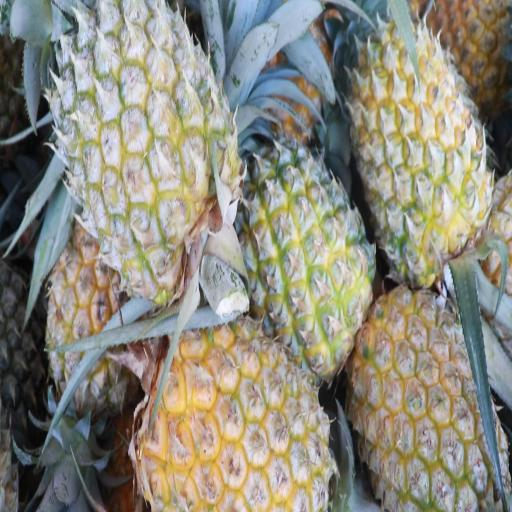------------------------------: (63, 0, 233, 274), (239, 142, 372, 371), (44, 217, 144, 411)
Pineapple - v8 v1: (146, 317, 332, 512), (350, 12, 491, 264), (354, 285, 502, 512)
